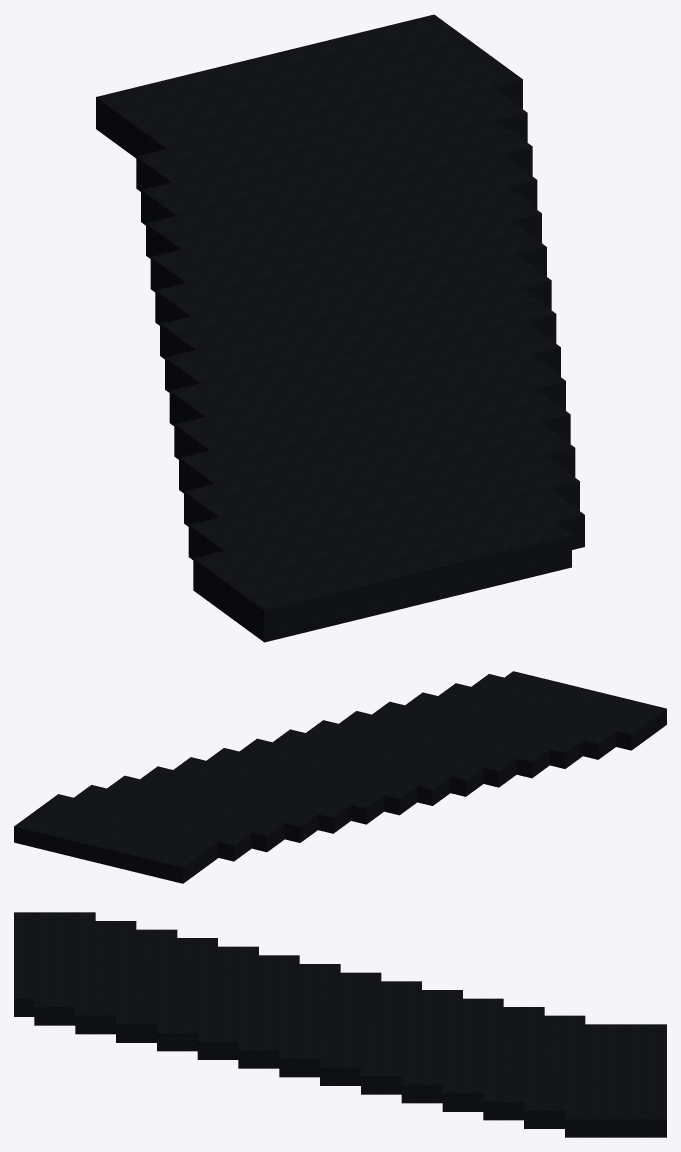
The model's file is CurvaCaverna2.fbx.
The picture shows the model from 3 angles, top to bottom: view 1: azimuth 30°, elevation 25°; view 2: azimuth 150°, elevation 25°; view 3: azimuth 270°, elevation 25°; orthographic projection. The views are drawn at different scales.
Visible parts, largest first — view 1: Curva Caverna 2; view 2: Curva Caverna 2; view 3: Curva Caverna 2.
Boxes of the visible parts, x1,y1,x2,y2 form: Curva Caverna 2: [96, 14, 584, 642]; Curva Caverna 2: [14, 671, 666, 883]; Curva Caverna 2: [14, 912, 666, 1137].
Size of the model in its own units: 2400 by 100 by 3200.
1 material, 1 textured.
